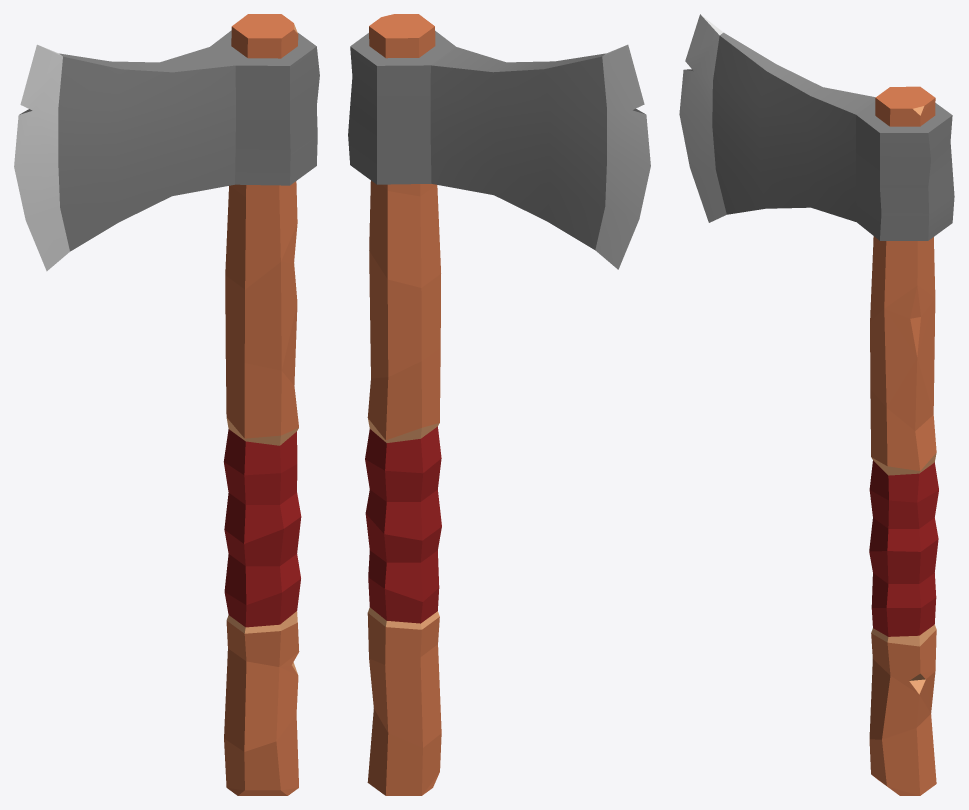
The model's file is axe.fbx.
3 renders of one model, left to right at view 1: azimuth 30°, elevation 25°; view 2: azimuth 150°, elevation 25°; view 3: azimuth 330°, elevation 25°, orthographic. The views are drawn at different scales.
Parts seen in each view (by area): view 1: Woodcutter_Axe; view 2: Woodcutter_Axe; view 3: Woodcutter_Axe.
Boxes of the visible parts, bbox=[...] form: Woodcutter_Axe: bbox=[14, 14, 319, 795]; Woodcutter_Axe: bbox=[348, 14, 650, 795]; Woodcutter_Axe: bbox=[679, 14, 954, 795].
Size of the model in its own units: 6.54 by 17.07 by 2.08.
1 material, 1 textured.
